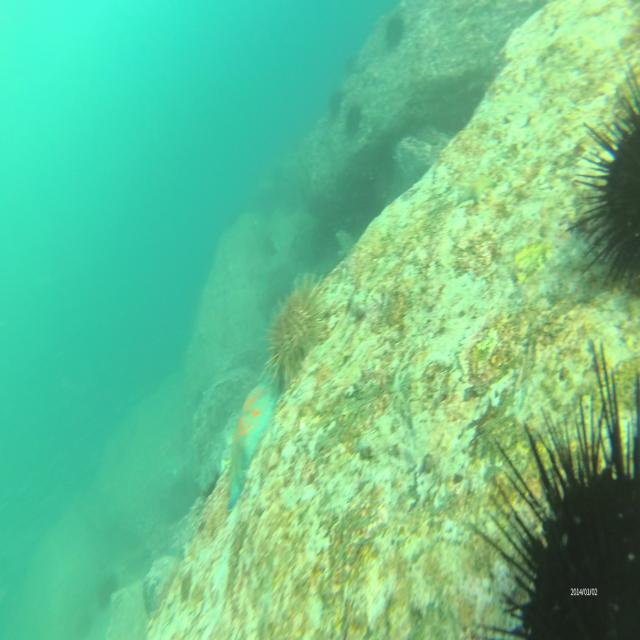echinus: (478, 347, 640, 640), (563, 62, 640, 298), (262, 272, 332, 400), (344, 97, 364, 143), (386, 9, 406, 54), (327, 83, 344, 121)
starfish: (224, 362, 284, 516)
